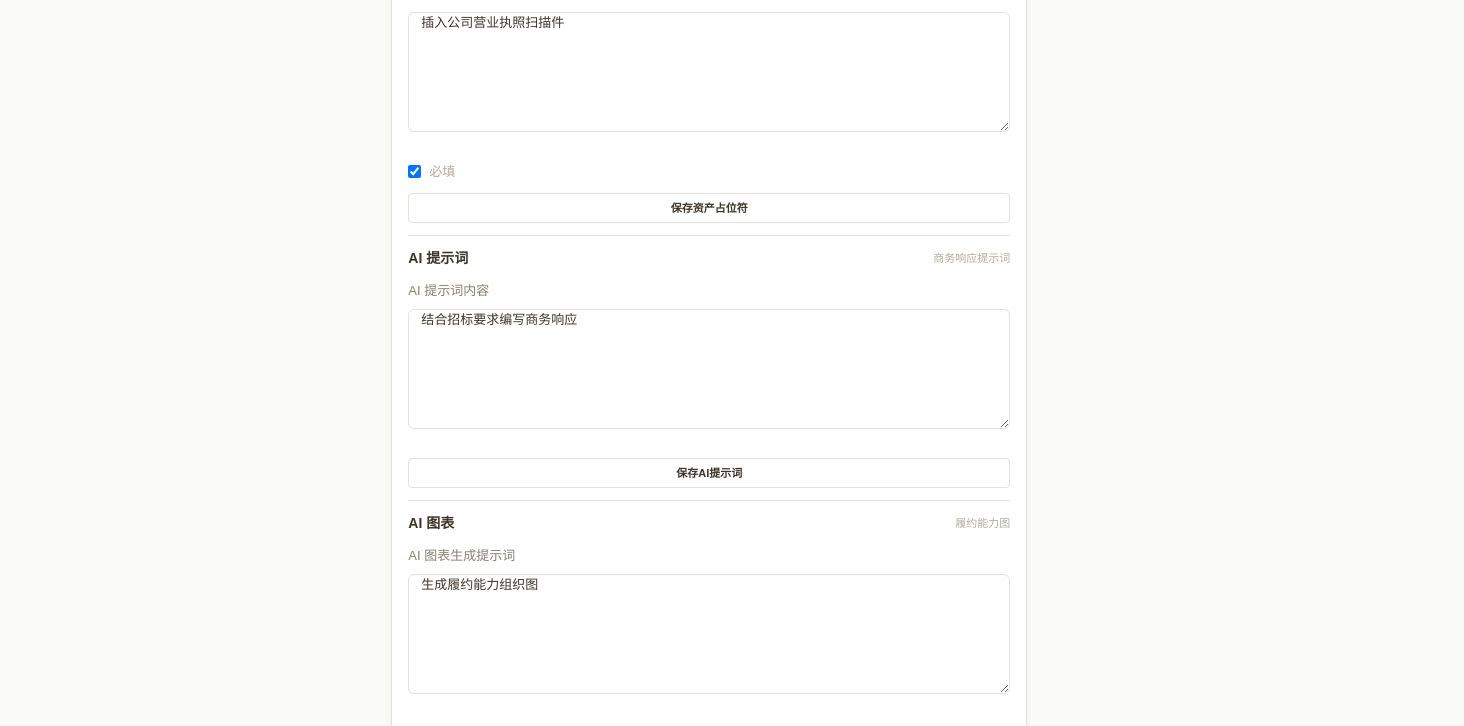
Test: ProjectTemplateWorkbench › renders editable business template blocks and docx preview for the selected chapter
(page scrolled)
Expected: the text box labelled "AI 图表生成提示词" holds "生成履约能力组织图", x1=408 y1=574 x2=1010 y2=694
Replace the text in the text box labelled "AI 提示词内容" with "更新后的商务响应提示词" at (709, 369), box x1=408 y1=309 x2=1010 y2=429
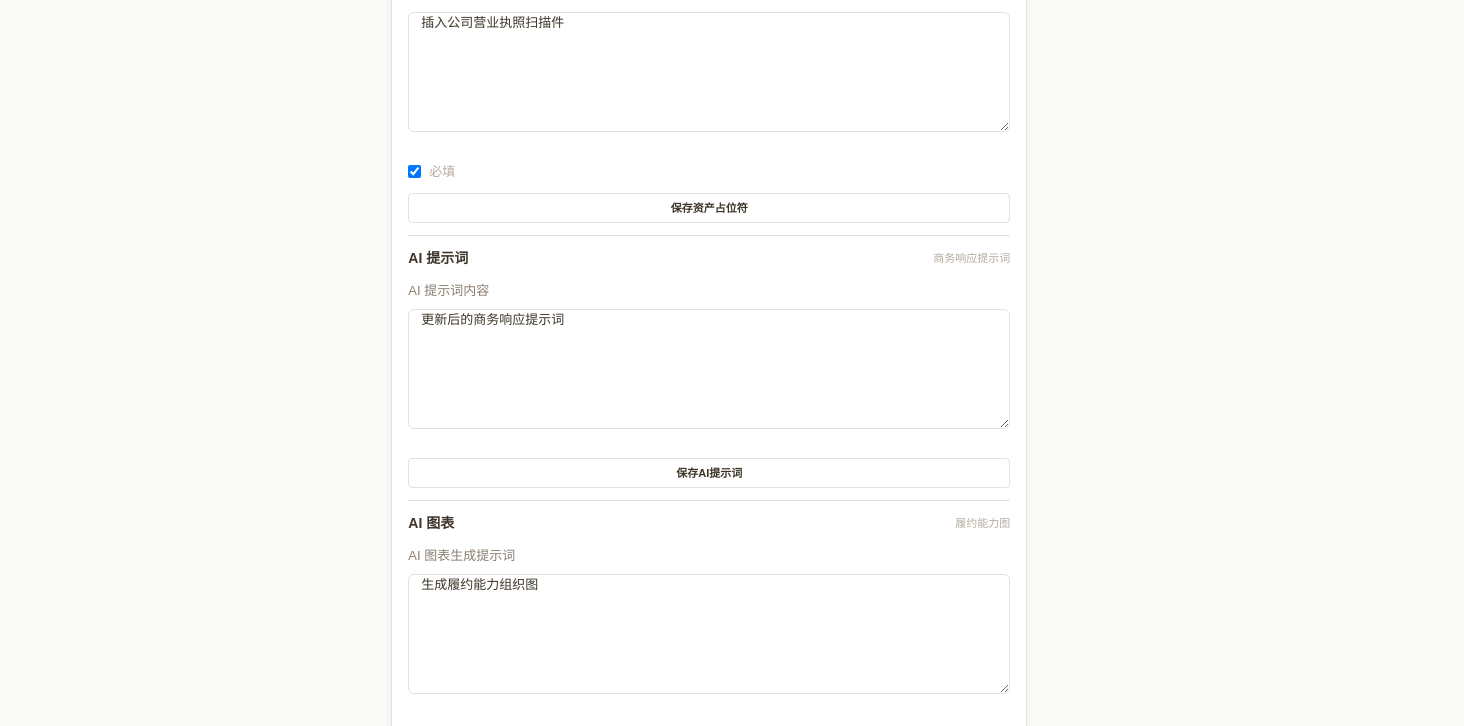
Click the button "保存AI提示词" at (709, 473), box x1=408 y1=458 x2=1010 y2=488
(page scrolled)
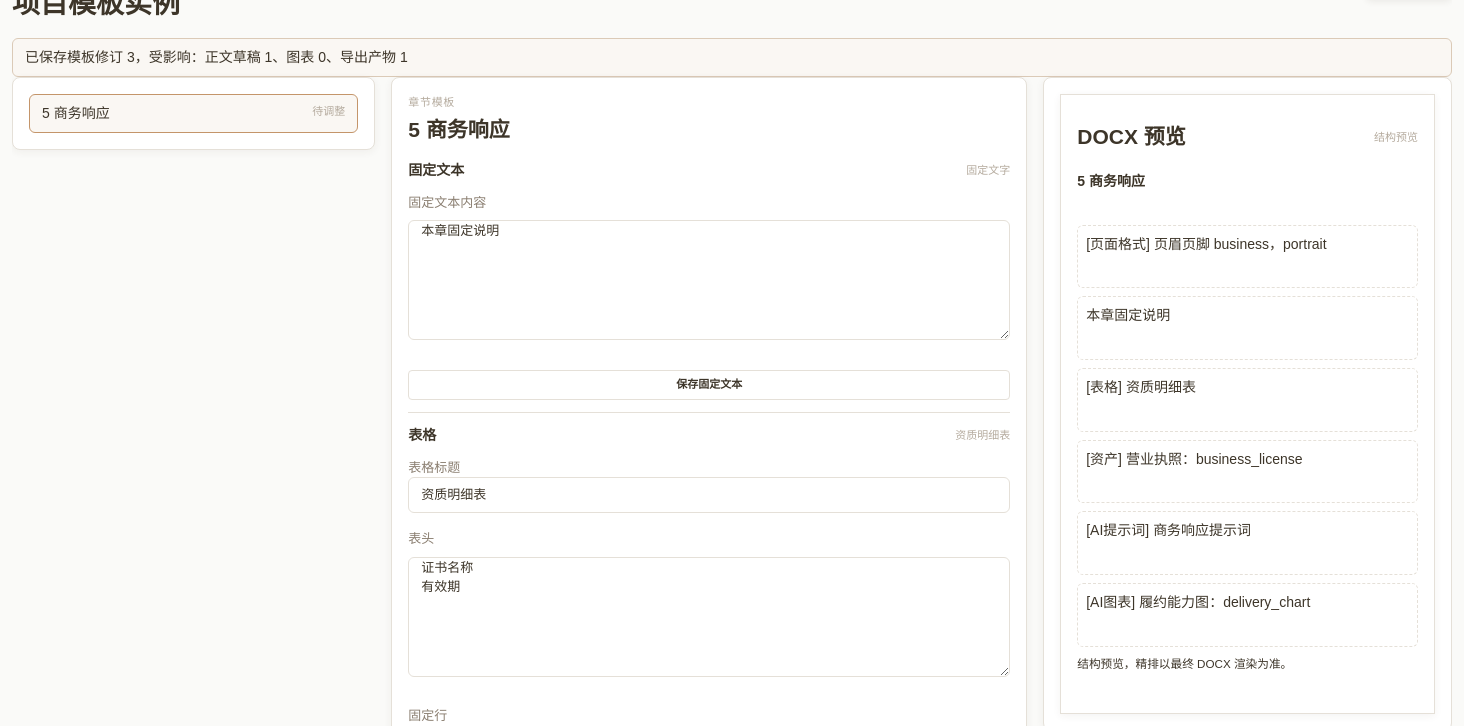
Expected: the text "[表格] 资质明细表" is shown, x1=1077 y1=368 x2=1418 y2=432
Expected: the text "已保存模板修订 3，受影响：正文草稿 1、图表 0、导出产物 1" is shown, x1=12 y1=38 x2=1452 y2=77
